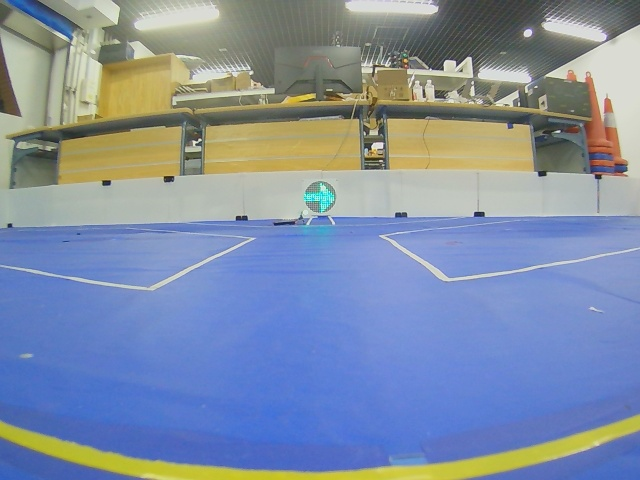right_green: (303, 181, 337, 215)
